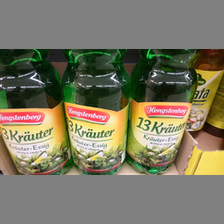vinegar: (1, 50, 71, 174), (62, 50, 132, 174), (129, 48, 197, 174)
